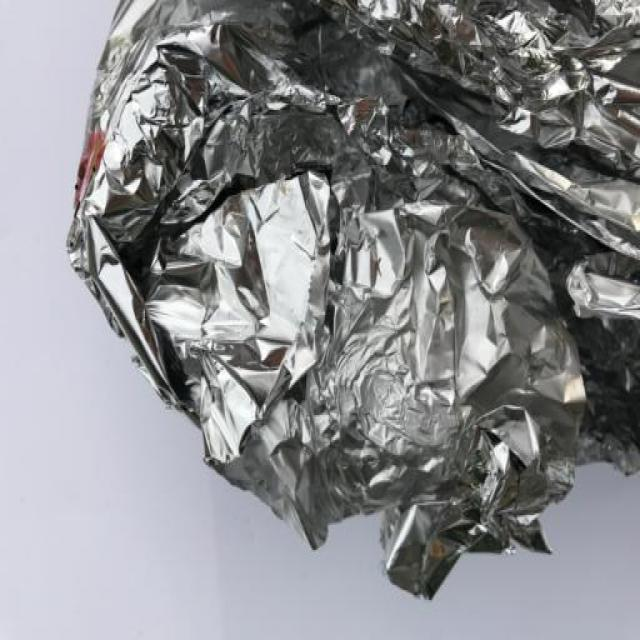others: (57, 1, 640, 603)
